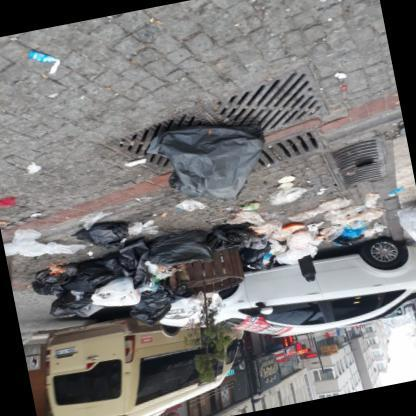Garbage: (235, 176, 400, 274), (145, 104, 280, 203), (73, 195, 226, 281), (35, 247, 166, 332)
